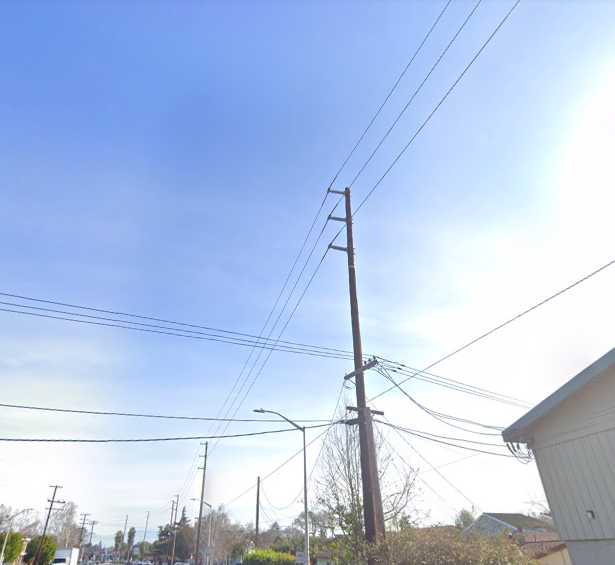utility_pole: (317, 178, 360, 262)
